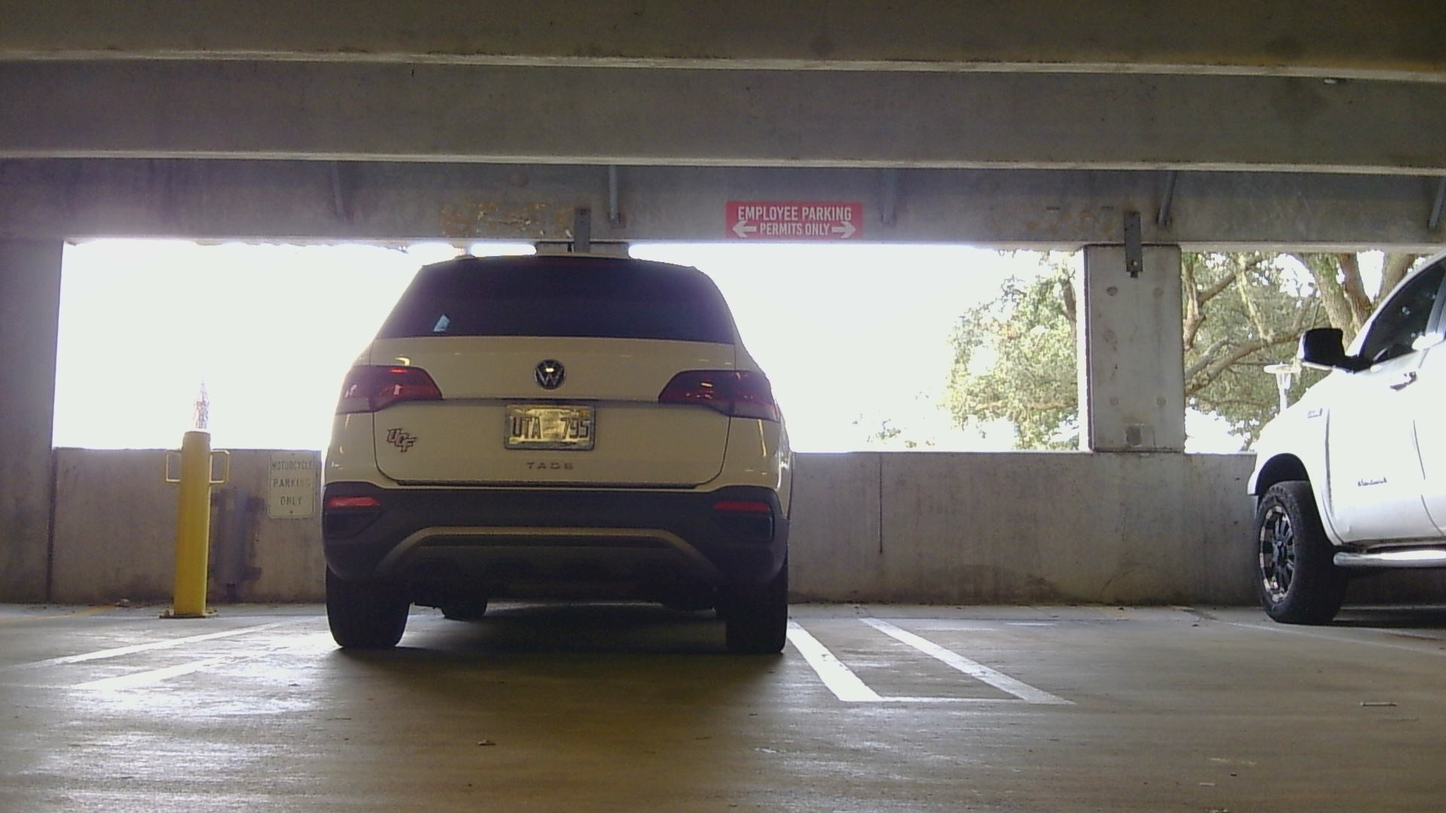empty_spot: (801, 500, 1446, 711)
occupied_spot: (318, 250, 799, 660), (1230, 245, 1446, 637)
